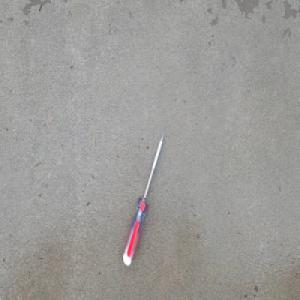Screwdriver: (122, 131, 165, 267)
